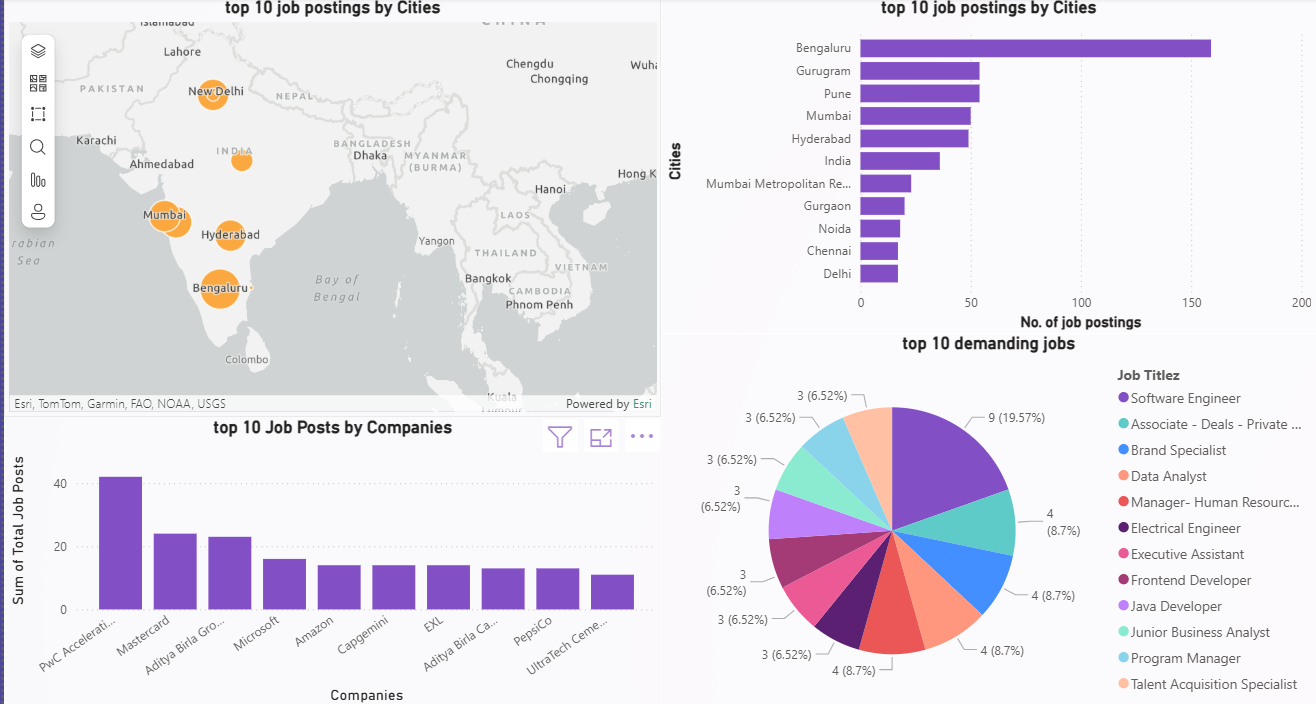

Layout of this report page (visuals, bound fields, positions):
{"tool":"powerbi","page":{"name":"Page 1","canvas":[1280,720],"ordinal":0},"visuals":[{"type":"pieChart","title":"top 10 demanding jobs","fields":{"Category":["top 10 demanding jobs.Job Titlez"],"Y":["Sum(top 10 demanding jobs.count)"]},"box":[640.1,327.4,638.7,365.4],"z":0},{"type":"columnChart","title":"top 10 Job Posts by Companies","fields":{"Category":["top companies job posts.Companies"],"Y":["Sum(top companies job posts.Total Job Posts)"]},"box":[0,408.8,640.5,283.2],"z":1001},{"type":"esriVisual","title":"top 10 job postings by Cities","fields":{"Location":["top 10 job posting cities.Cities"],"Size":["Sum(top 10 job posting cities.total job postings)"]},"box":[0,0,640.5,408.8],"z":1002},{"type":"clusteredBarChart","title":"top 10 job postings by Cities","fields":{"Category":["top 10 job posting cities.Cities"],"Y":["Sum(top 10 job posting cities.total job postings)"]},"box":[640.1,0,638.7,328.8],"z":1003}]}

Visuals, with their boxes on the page's 1280x720 design canvas (x1, y1, x2, y2). These are canvas units, not pixel positions in the 1316x704 screenshot, which may show the page scaled, cropped or inside an application window:
"top 10 demanding jobs" pieChart: 640,327,1279,693
"top 10 Job Posts by Companies" columnChart: 0,409,640,692
"top 10 job postings by Cities" esriVisual: 0,0,640,409
"top 10 job postings by Cities" clusteredBarChart: 640,0,1279,329
